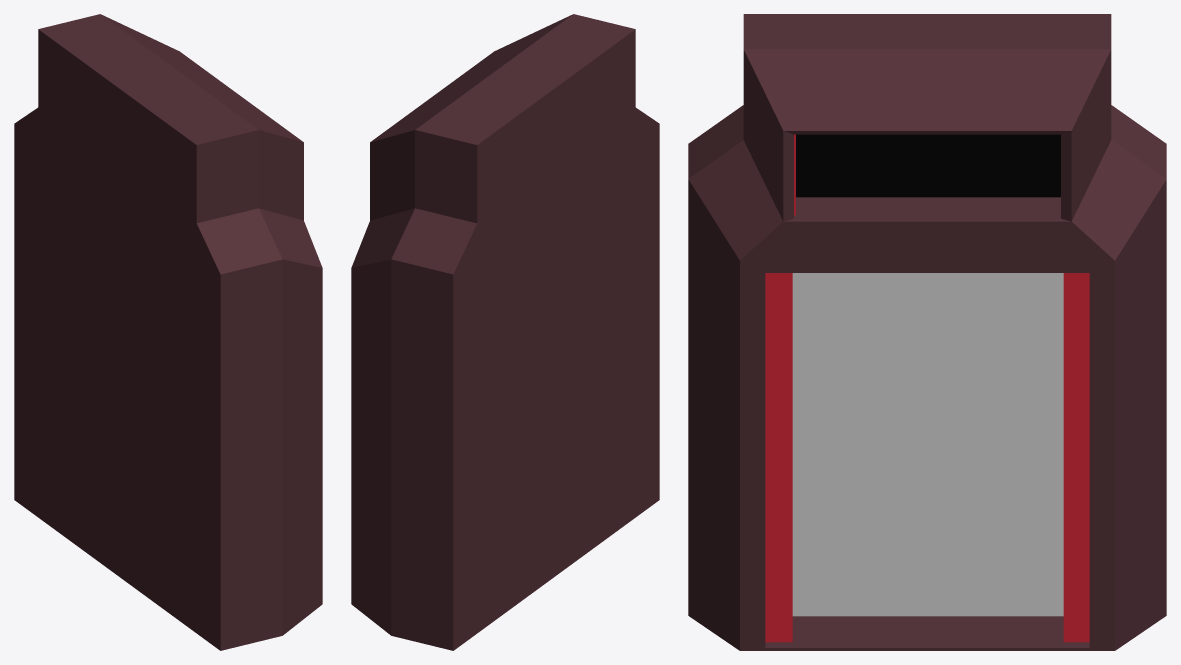
File: lift-envirdesign.fbx
The picture shows the model from 3 angles, left to right: view 1: azimuth 30°, elevation 25°; view 2: azimuth 150°, elevation 25°; view 3: azimuth 270°, elevation 25°; orthographic projection. The views are drawn at different scales.
Visible parts, largest first — view 1: Cube; view 2: Cube; view 3: Cube, Cube.001.
Part boxes in pixels (<box>): Cube: <box>14,14,322,650</box>; Cube: <box>351,14,659,650</box>; Cube: <box>688,14,1166,650</box>; Cube.001: <box>792,273,1063,616</box>.
Size of the model in its own units: 200 by 751 by 574.
